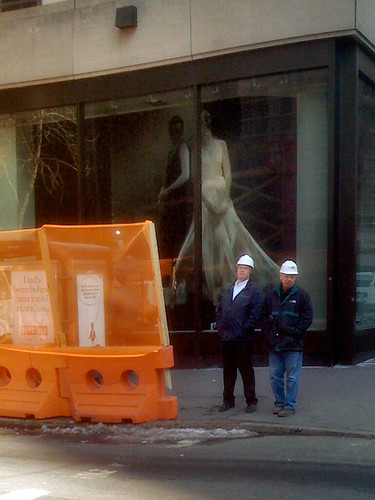person hardhat: (207, 248, 268, 416), (253, 255, 306, 424)
